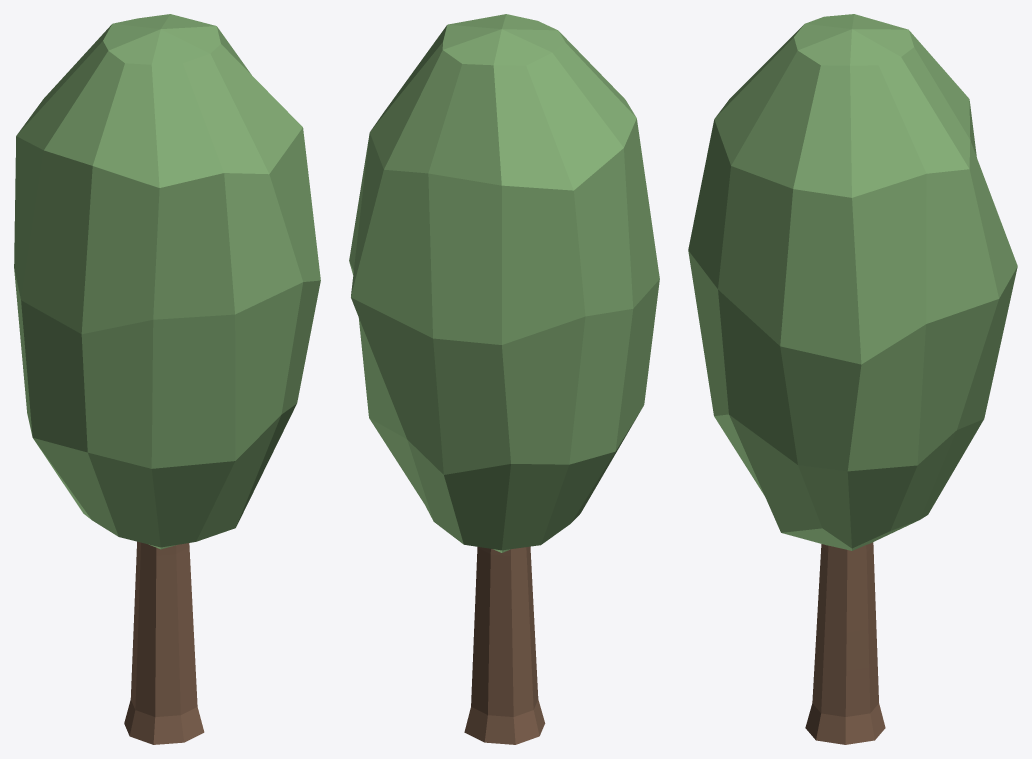
File: Leaves_01.001.fbx
The picture shows the model from 3 angles, left to right: view 1: azimuth 30°, elevation 25°; view 2: azimuth 150°, elevation 25°; view 3: azimuth 270°, elevation 25°; orthographic projection.
Visible parts, largest first — view 1: Leaves_01.001; view 2: Leaves_01.001; view 3: Leaves_01.001.
Boxes of the visible parts, left/top/right/bottom form: Leaves_01.001: left=14, top=14, right=320, bottom=744; Leaves_01.001: left=349, top=14, right=659, bottom=744; Leaves_01.001: left=688, top=14, right=1017, bottom=744.
Bounding box in the file's own units: 118 × 279 × 119.
